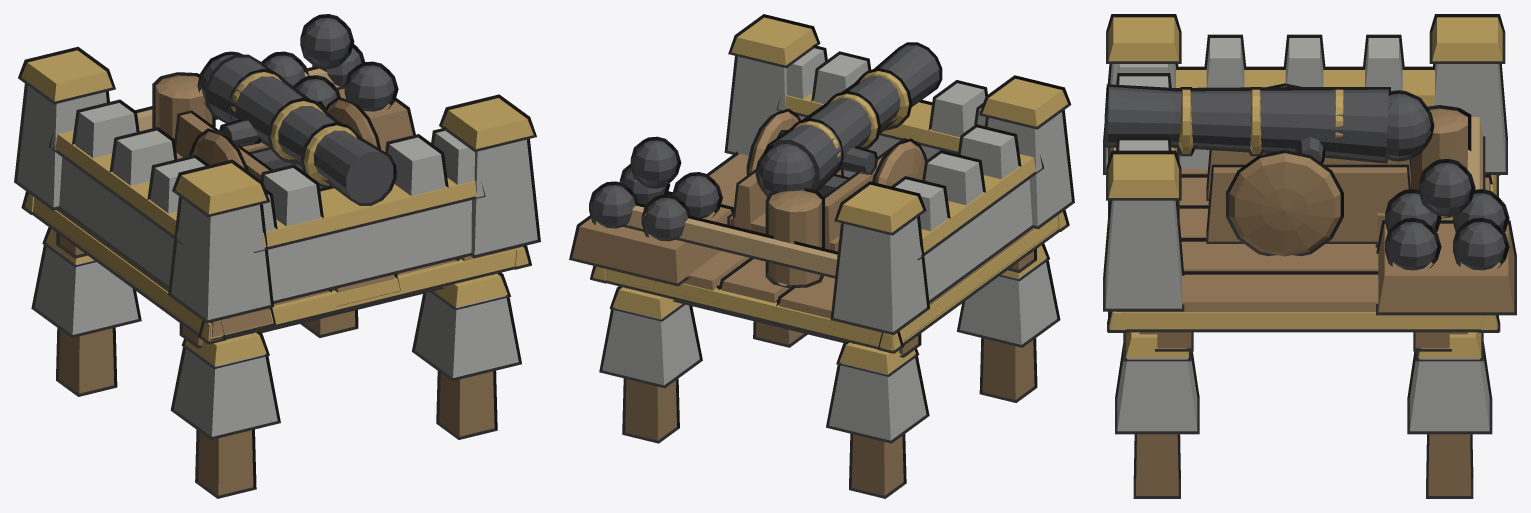
The model's file is Tier2_Cannon.fbx.
The picture shows the model from 3 angles, left to right: view 1: azimuth 30°, elevation 25°; view 2: azimuth 150°, elevation 25°; view 3: azimuth 270°, elevation 25°; orthographic projection. The views are drawn at different scales.
Parts seen in each view (by area): view 1: Prop_CannonOutpostT2, Prop_CannonT2; view 2: Prop_CannonOutpostT2, Prop_CannonT2; view 3: Prop_CannonOutpostT2, Prop_CannonT2.
Boxes of the visible parts, x1,y1,x2,y2 form: Prop_CannonOutpostT2: [14, 14, 540, 498]; Prop_CannonT2: [174, 51, 396, 205]; Prop_CannonOutpostT2: [569, 14, 1074, 498]; Prop_CannonT2: [727, 42, 942, 251]; Prop_CannonOutpostT2: [1103, 14, 1516, 498]; Prop_CannonT2: [1104, 83, 1434, 256].
Bounding box in the file's own units: 122 × 110 × 122.
